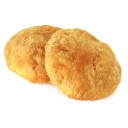poori: (46, 29, 122, 100), (4, 23, 63, 85)
